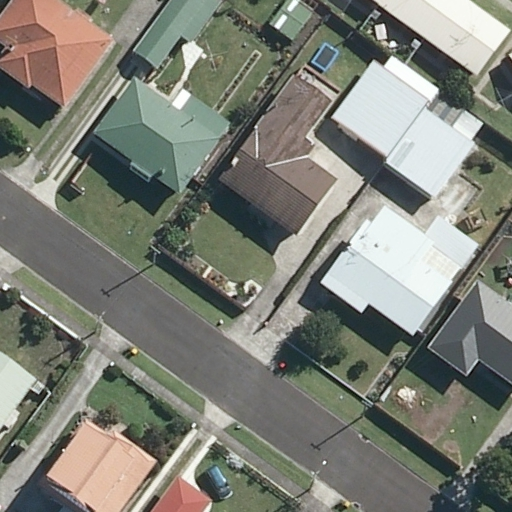DT: (357, 397, 373, 423), (147, 245, 161, 273)
